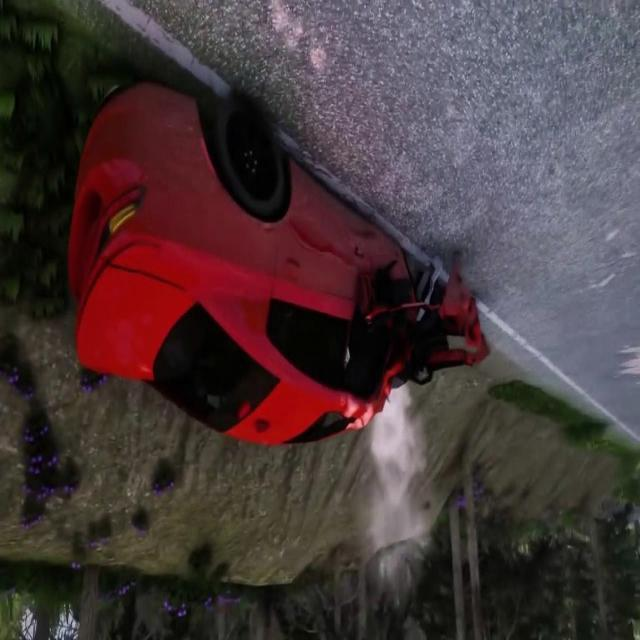severe: (61, 90, 491, 458)
